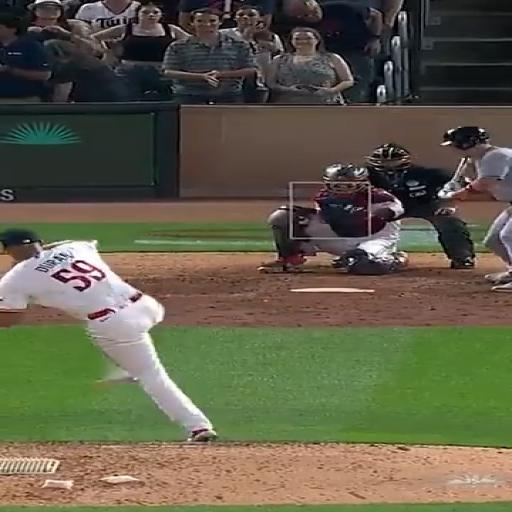bat: (448, 154, 475, 183)
